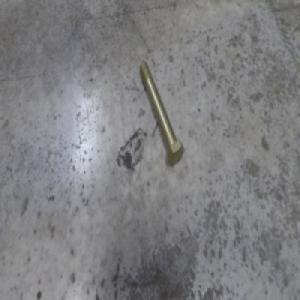Bolt: (139, 59, 184, 166)
